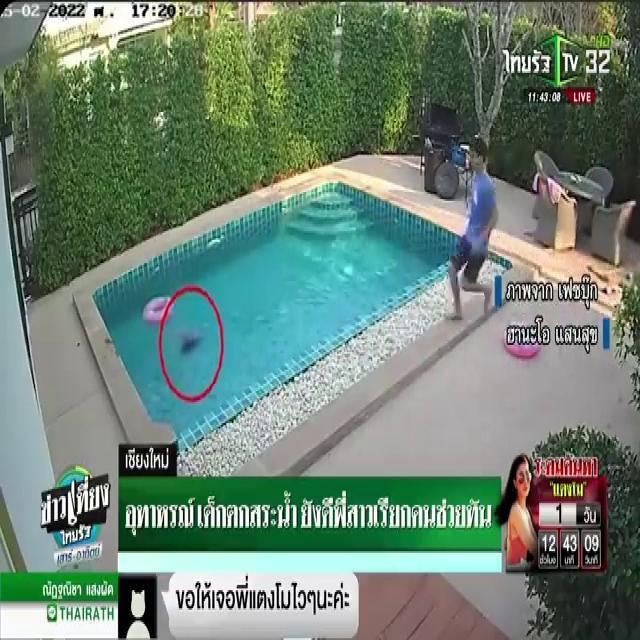Out of Water: (172, 326, 208, 366)
